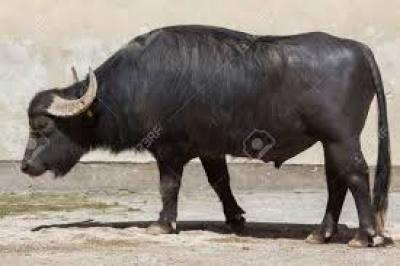buffalo: (21, 25, 390, 245)
